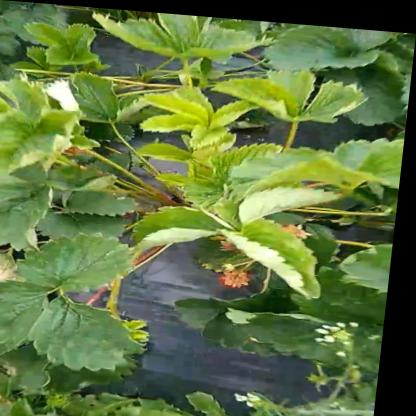ripe: (223, 265, 263, 288)
